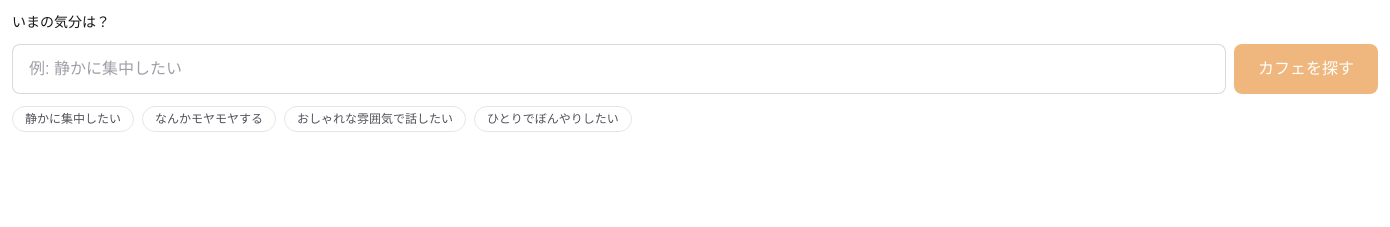
Test: MoodRecommender（統合） › API エラーのメッセージが画面に出る
Step 1. Type "静かに集中したい" into the field labelled "いまの気分は？" → [619, 69], box [12,44,1226,94]
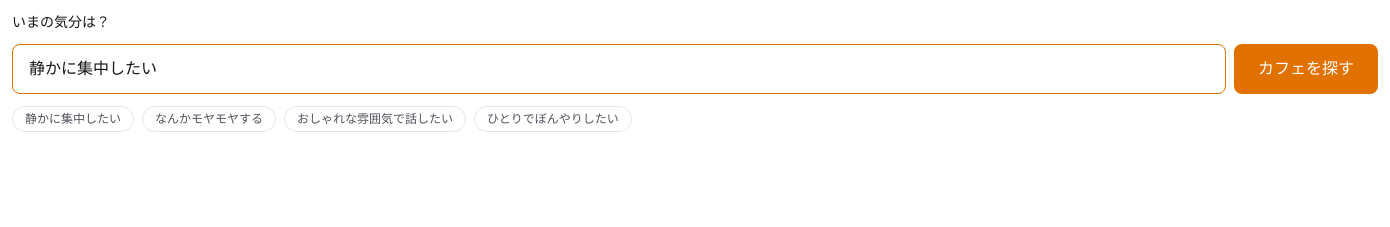
Step 2. Click the button "カフェを探す" → [1306, 69], box [1234,44,1378,94]
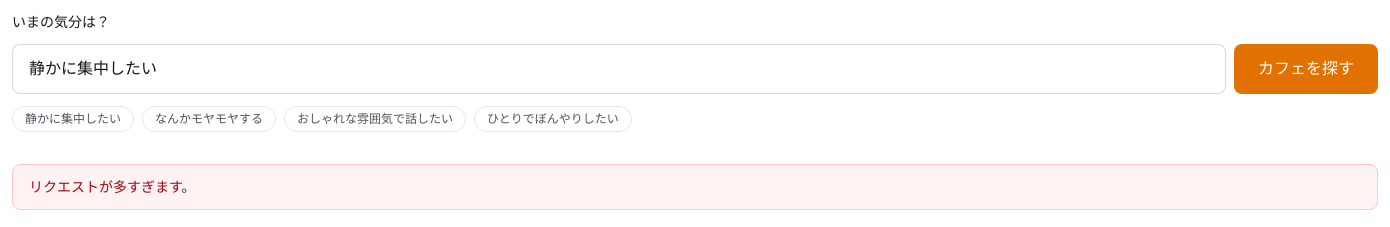
Result: the message reads "リクエストが多すぎます。" at [29,179,196,195]
